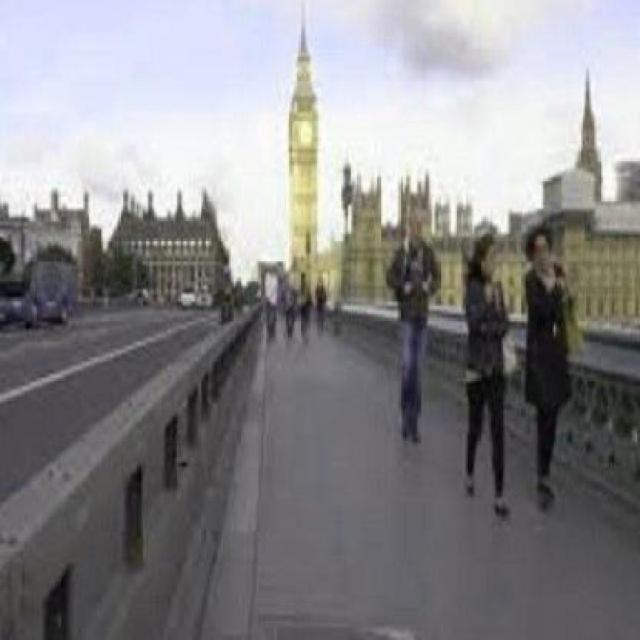Person: (458, 234, 518, 526), (518, 221, 572, 508), (384, 199, 442, 441)
